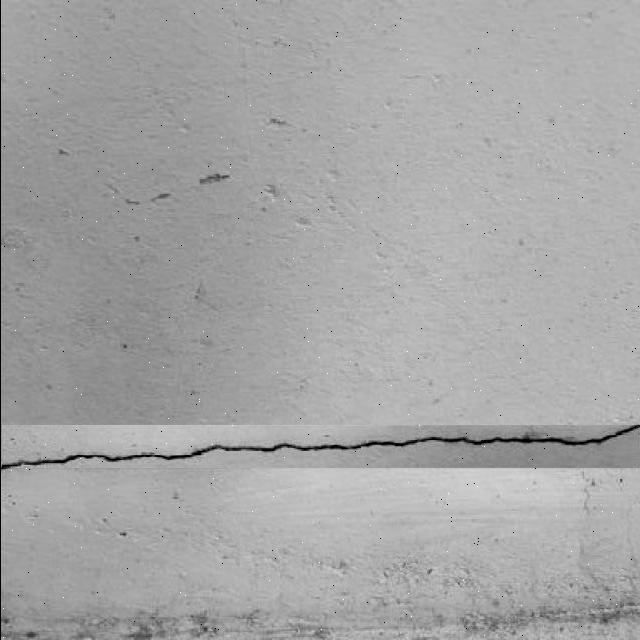crack: (1, 421, 639, 471)
